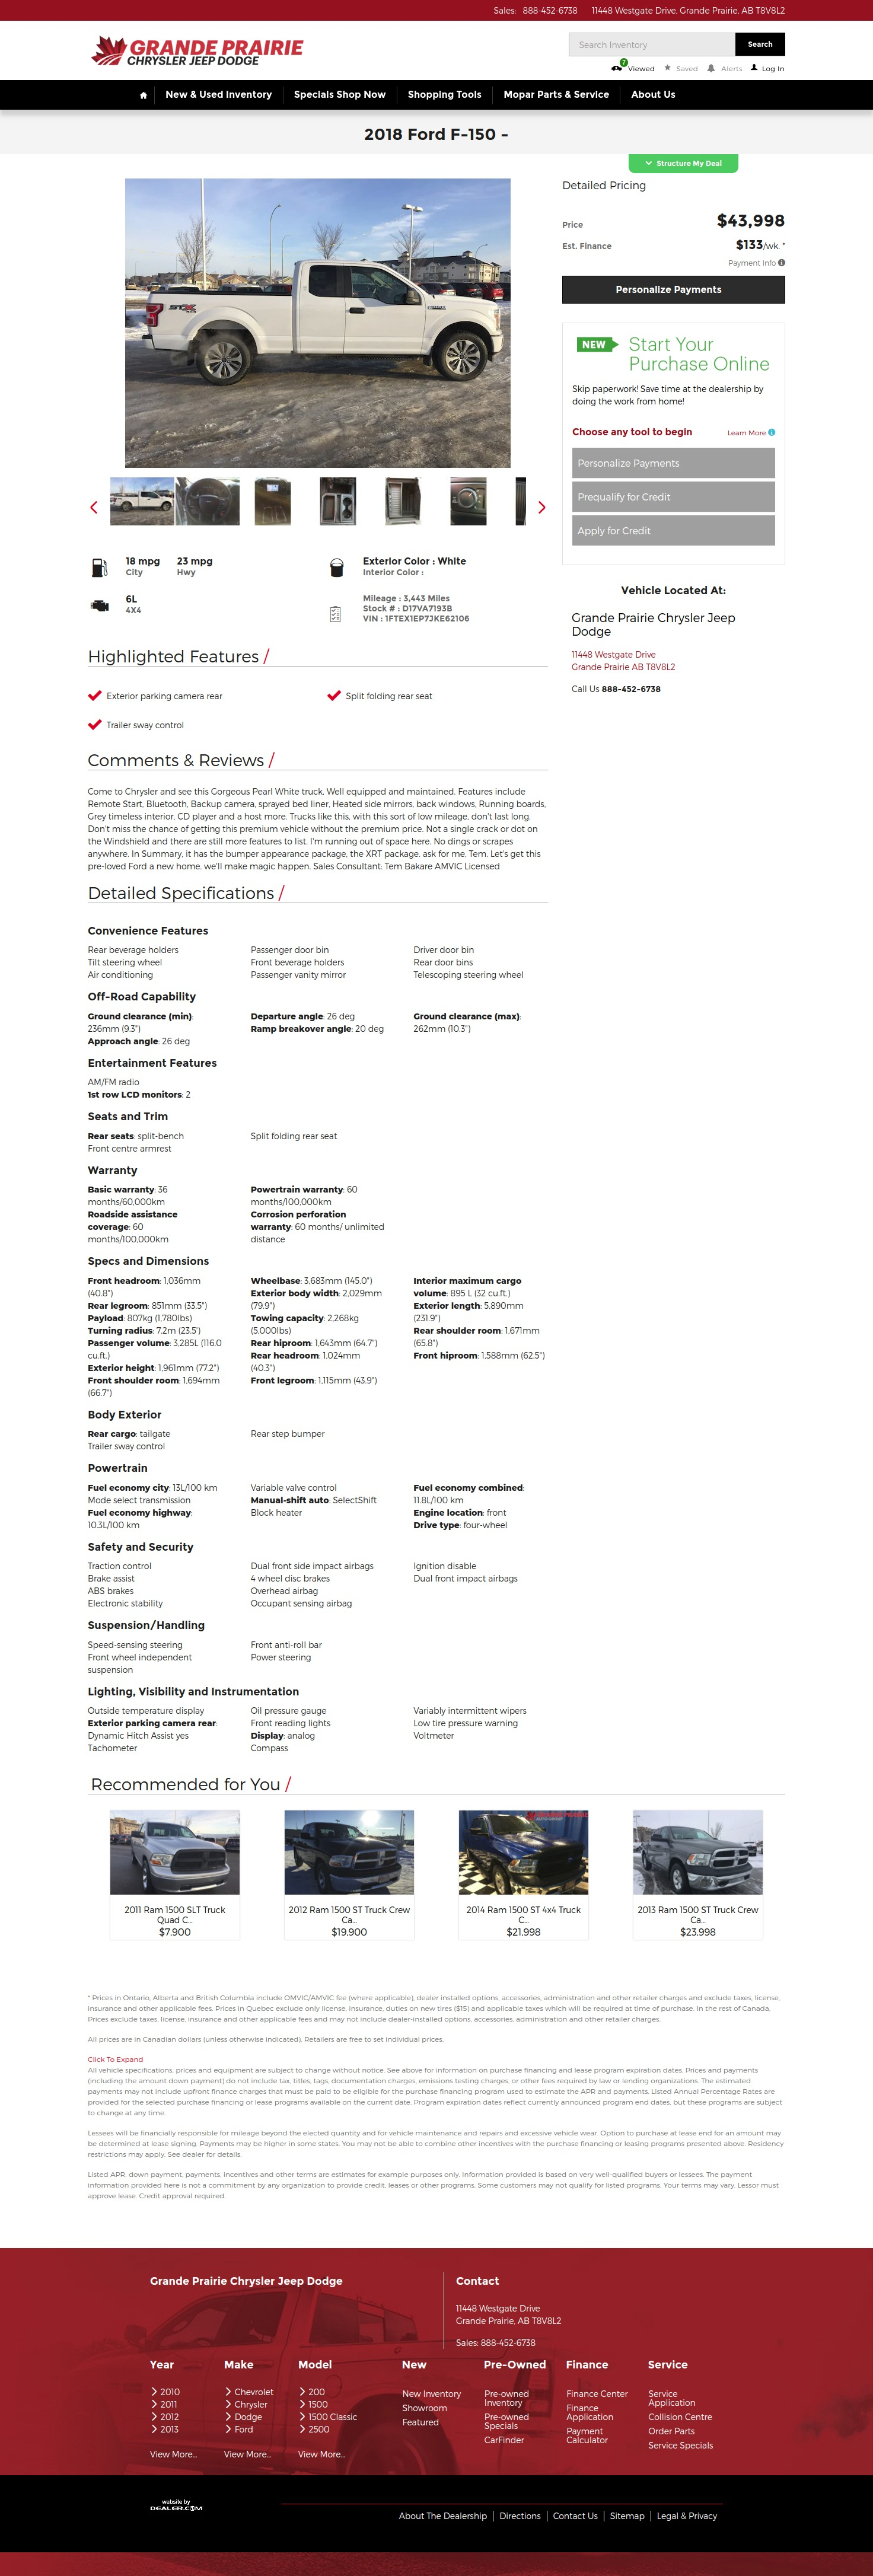car: (539, 501, 546, 514)
